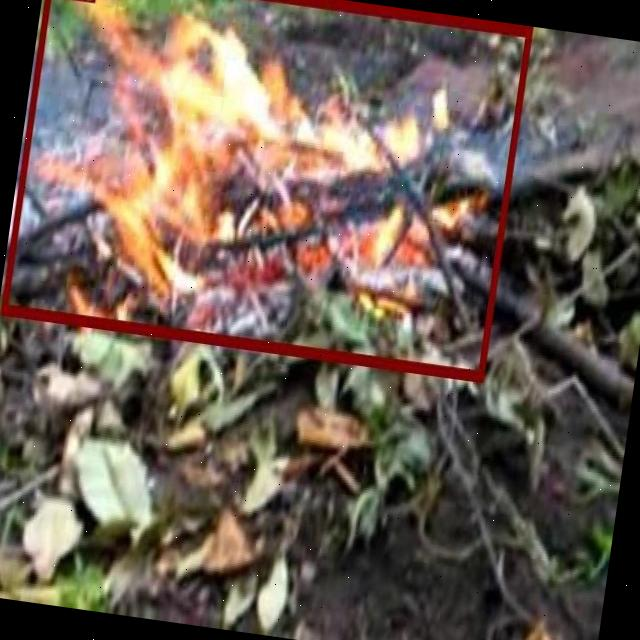fire: (0, 0, 532, 381)
